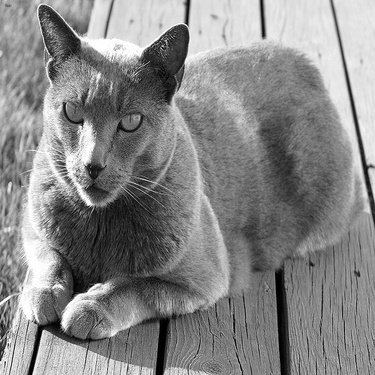cat: (15, 1, 366, 347)
